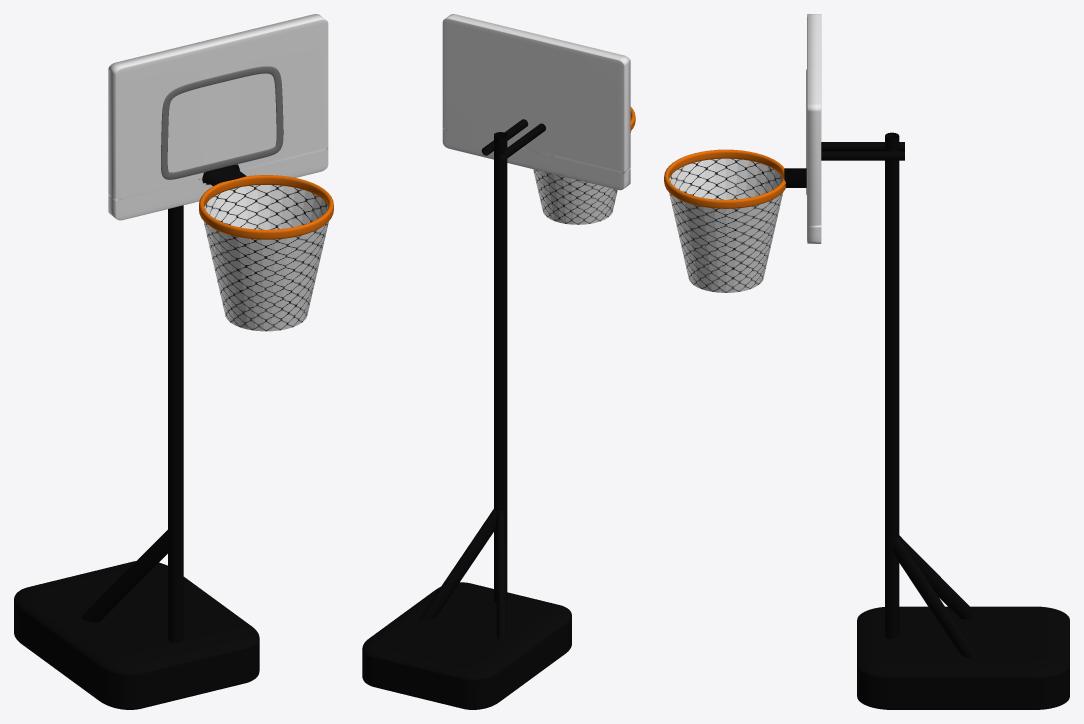
Rendered from bball 1.fbx.
3 views of the same model, side by side, from view 1: azimuth 30°, elevation 25°; view 2: azimuth 150°, elevation 25°; view 3: azimuth 270°, elevation 25° (orthographic). The views are drawn at different scales.
Parts seen in each view (by area): view 1: Cube, Cube.002, Cylinder, NurbsPath.002, BezierCircle, NurbsPath, NurbsPath.003; view 2: Cube, Cube.002, NurbsPath.002, Cylinder, NurbsPath.003, NurbsPath.001; view 3: Cube.002, Cylinder, NurbsPath.002, Cube, NurbsPath.003, BezierCircle, NurbsPath.001.
Boxes of the visible parts, bbox=[...] form: Cube: bbox=[108, 14, 328, 220]; Cube.002: bbox=[14, 561, 259, 709]; Cylinder: bbox=[203, 185, 328, 331]; NurbsPath.002: bbox=[168, 205, 183, 642]; BezierCircle: bbox=[199, 175, 333, 239]; NurbsPath: bbox=[161, 66, 283, 179]; NurbsPath.003: bbox=[80, 530, 168, 622]; Cube: bbox=[442, 14, 630, 190]; Cube.002: bbox=[362, 582, 571, 709]; NurbsPath.002: bbox=[494, 132, 507, 602]; Cylinder: bbox=[533, 131, 631, 224]; NurbsPath.003: bbox=[419, 508, 506, 640]; NurbsPath.001: bbox=[481, 119, 545, 159]; Cube.002: bbox=[857, 606, 1069, 709]; Cylinder: bbox=[669, 158, 783, 292]; NurbsPath.002: bbox=[885, 132, 899, 638]; Cube: bbox=[784, 14, 821, 243]; NurbsPath.003: bbox=[893, 535, 977, 658]; BezierCircle: bbox=[664, 149, 785, 208]; NurbsPath.001: bbox=[821, 142, 904, 160].
Bounding box in the file's own units: 378 × 1152 × 682.
